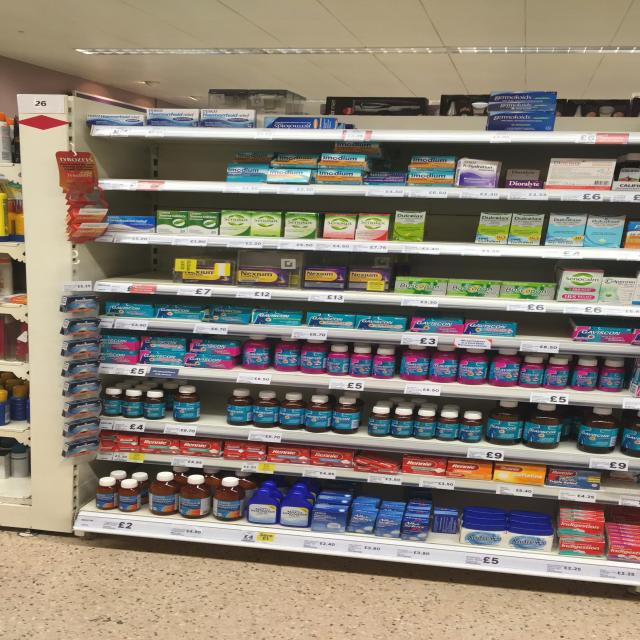empty: (328, 87, 497, 132), (94, 137, 229, 182), (550, 88, 640, 134), (92, 243, 175, 292), (425, 203, 485, 245), (510, 313, 570, 343), (201, 379, 227, 426)
